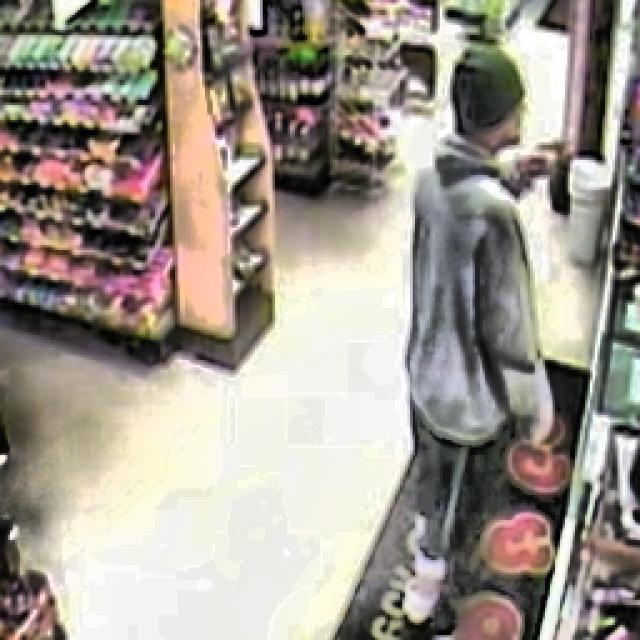Human: (391, 35, 557, 628)
